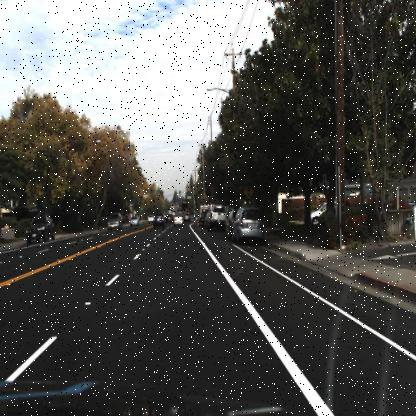car: (303, 194, 347, 228), (21, 209, 57, 243), (233, 206, 264, 243), (201, 200, 226, 229), (104, 212, 125, 232), (151, 211, 168, 231), (128, 214, 142, 229), (173, 210, 183, 226)
